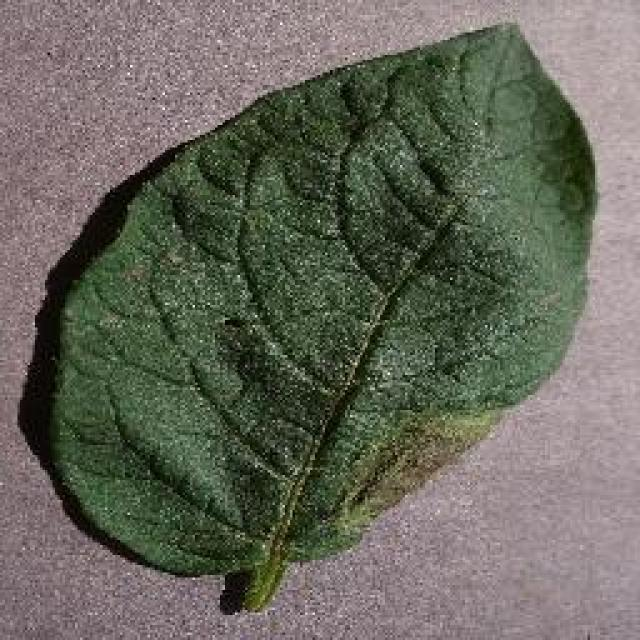late_blight: (30, 17, 602, 615)
